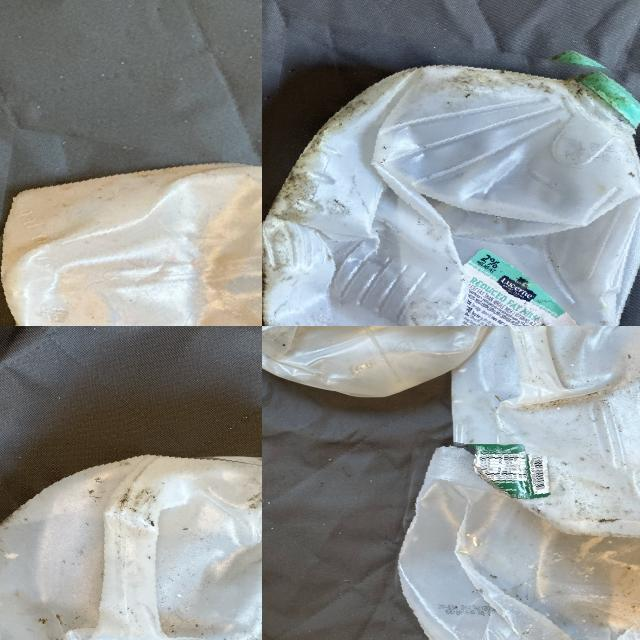milk-jug: (262, 31, 640, 326), (0, 440, 262, 640), (382, 447, 640, 640), (0, 147, 262, 326), (445, 326, 640, 526), (262, 326, 495, 392)
